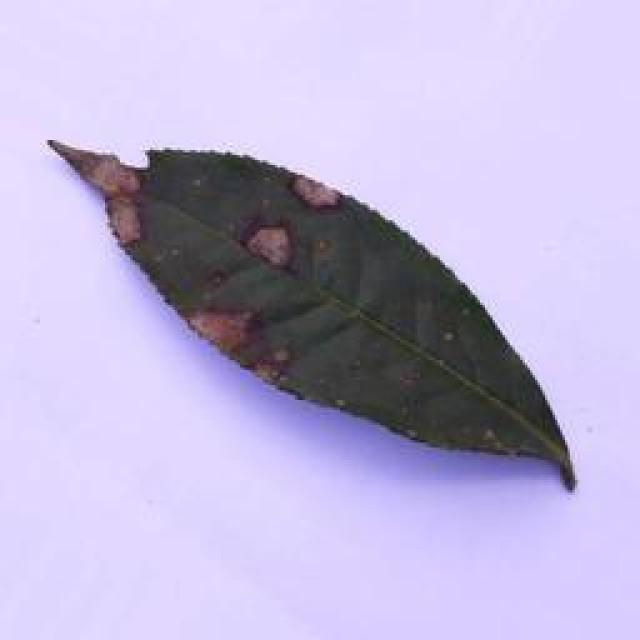Gray Blight: (42, 137, 574, 494)
